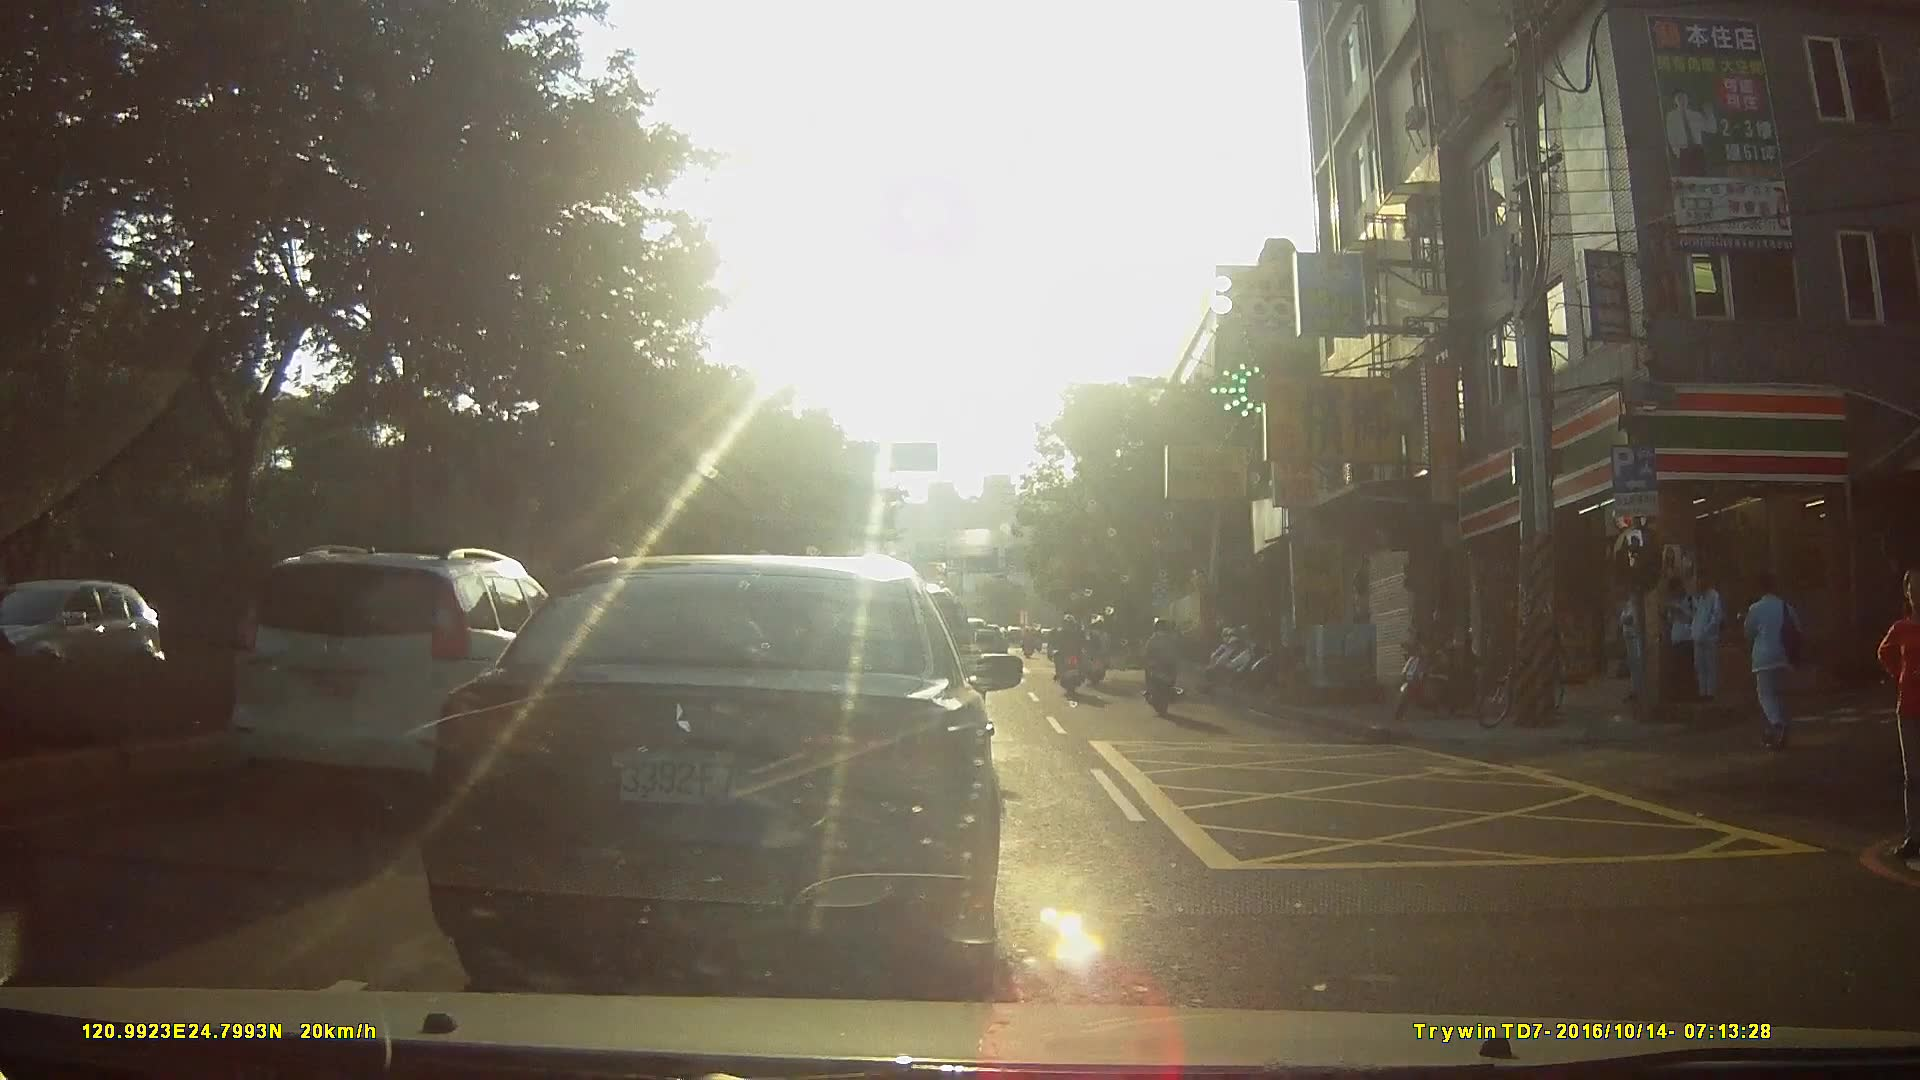pedestrian: (1876, 567, 1920, 854), (1745, 573, 1810, 756), (1680, 569, 1723, 703), (1614, 573, 1655, 708), (1660, 567, 1697, 710)
rider: (1139, 617, 1187, 716), (1048, 613, 1094, 700), (1087, 611, 1113, 685), (1020, 625, 1040, 659)
vehicle: (411, 549, 1033, 982), (182, 523, 570, 844), (1, 570, 168, 714)
